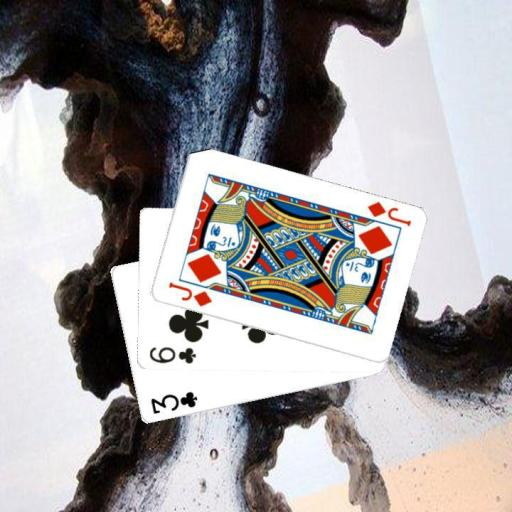3C: (148, 388, 199, 416)
6C: (146, 344, 197, 366)
JD: (364, 199, 413, 229), (165, 279, 213, 309)
